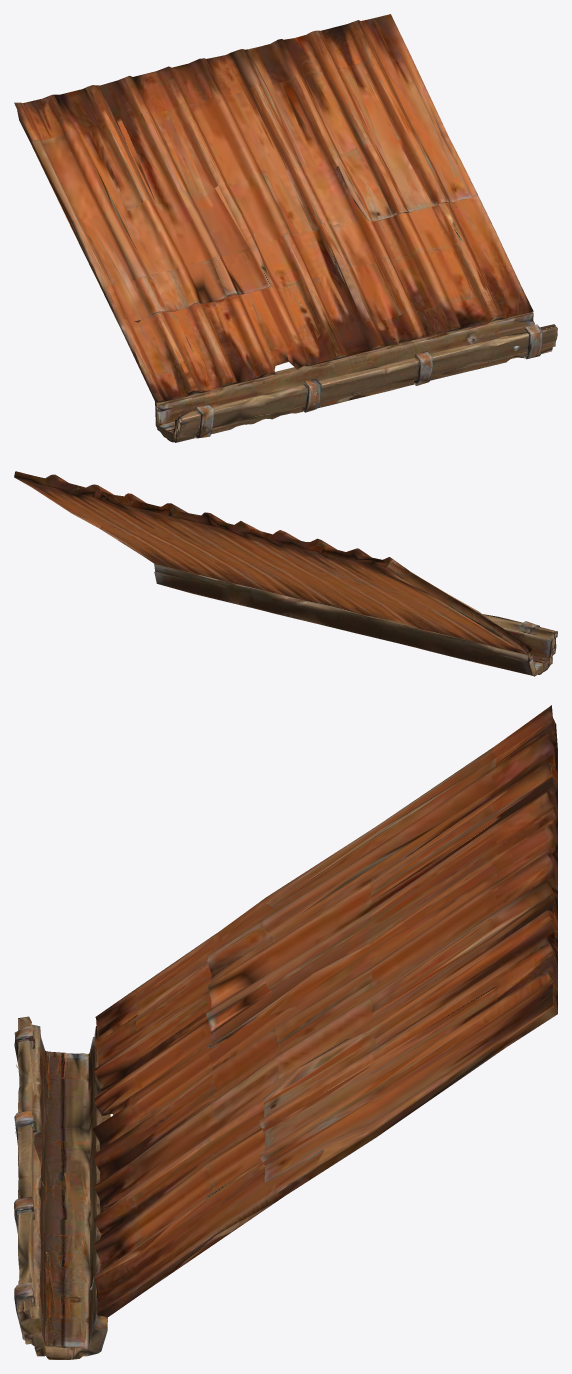
Rendered from k-roof-steep.glb.
3 views of the same model, one above another, from view 1: azimuth 30°, elevation 25°; view 2: azimuth 150°, elevation 25°; view 3: azimuth 270°, elevation 25° (orthographic). The views are drawn at different scales.
Size of the model in its own units: 0.9482 by 0.5405 by 0.7388.
Materials: 1 (1 with a texture image).
